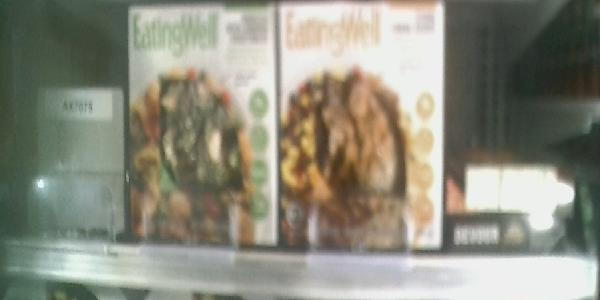pizza1: (281, 1, 447, 259), (126, 1, 282, 244)
